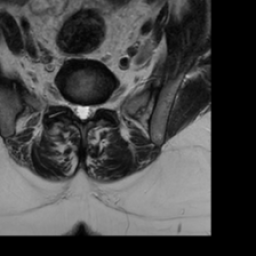CCS_stenosis: (79, 92, 88, 130)
LFS_normal: (96, 91, 104, 118)
LLS_normal: (88, 94, 96, 124)
RFS_normal: (62, 87, 70, 118)
RLS_normal: (70, 91, 79, 126)
